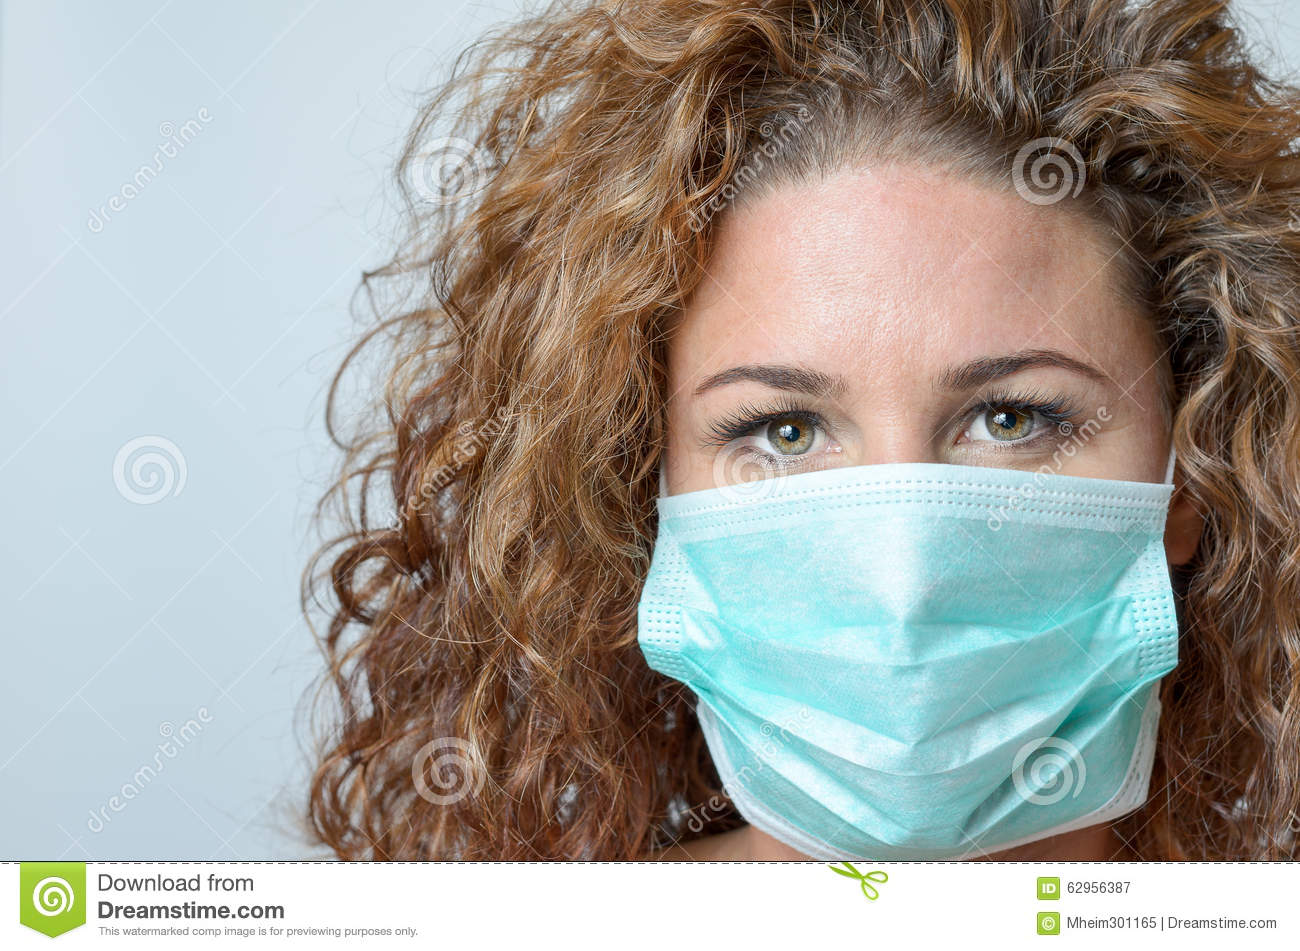mask: (646, 485, 1159, 847)
